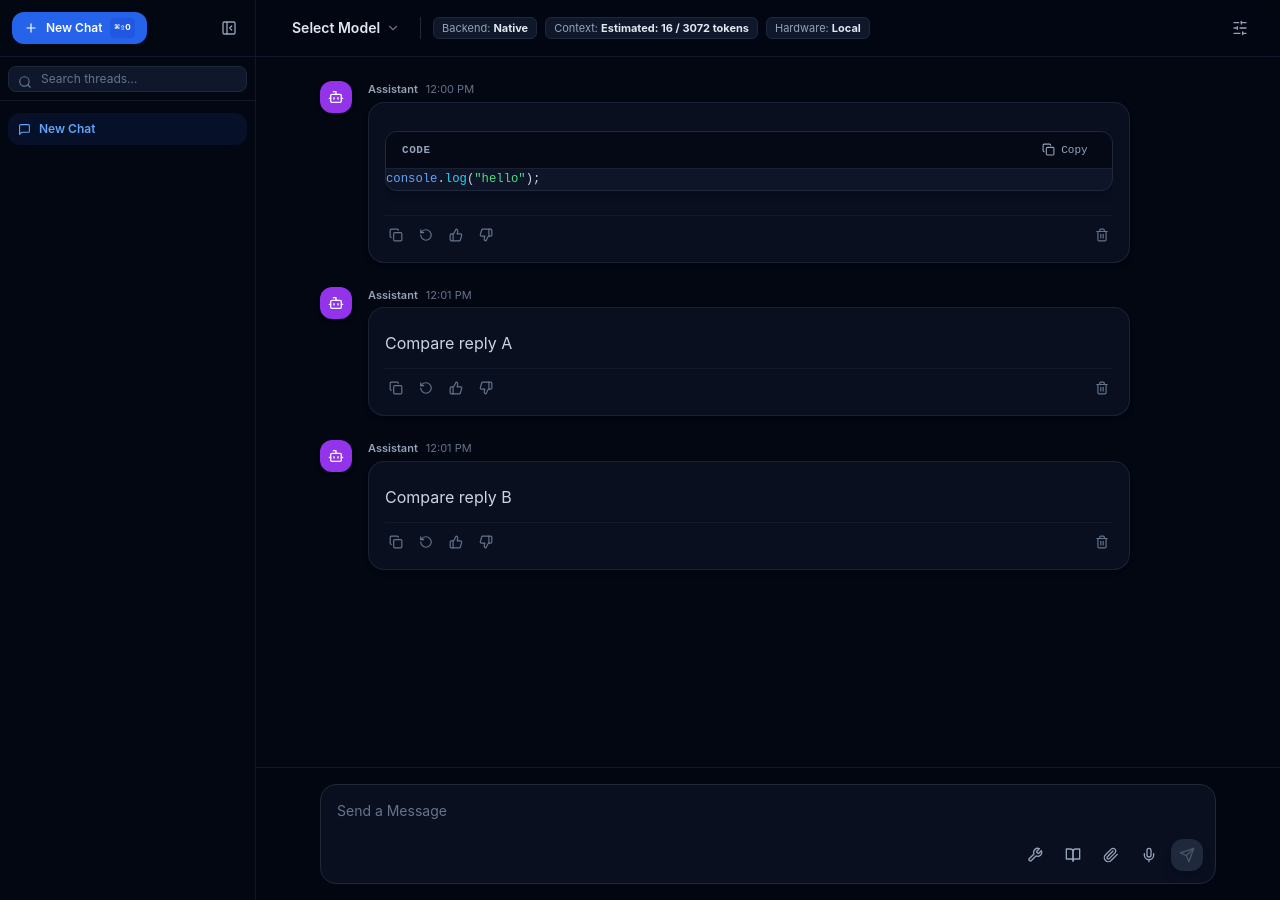
ChatTab › voice input › renders the mic button and starts/stops recognition on click
Click the button named "Start voice input" at (1149, 855), box [1133,839,1165,871]
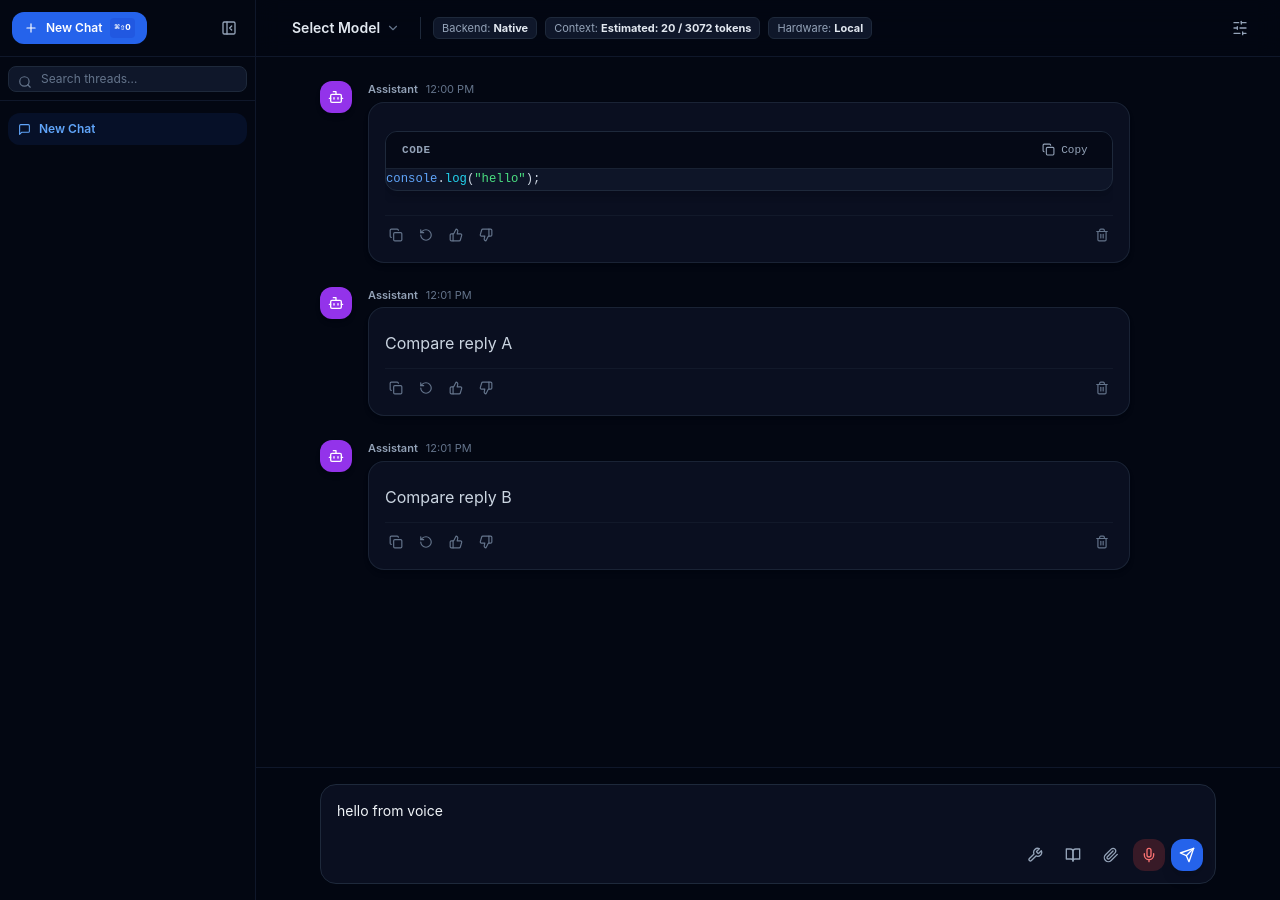
Expected: the button named "Stop voice input" is shown
Expected: the text box with placeholder "Send a Message" holds "hello from voice", [321,785,1215,877]
Click the button named "Stop voice input" at (1149, 855), box [1133,839,1165,871]
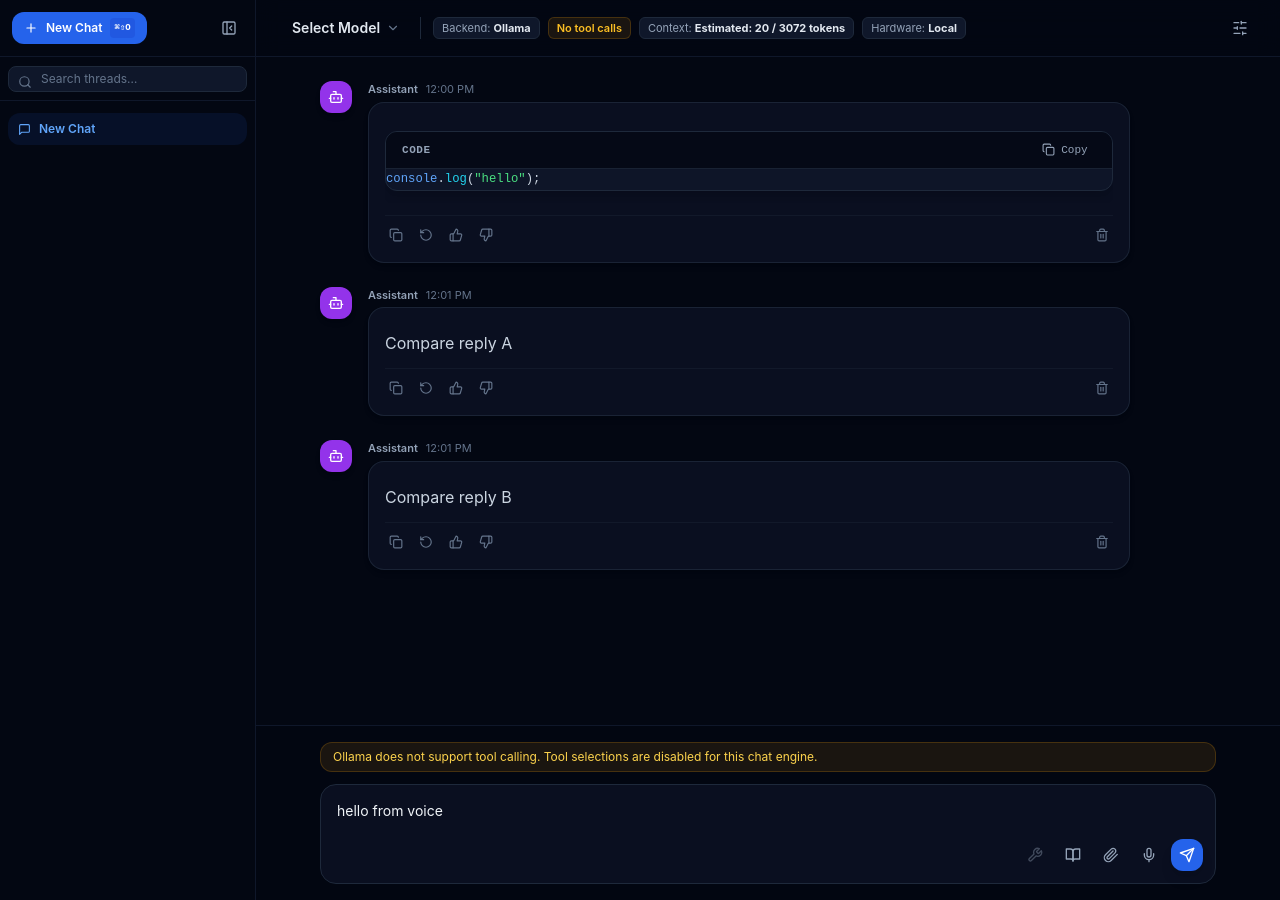
Expected: the button named "Start voice input" is shown, [1133,839,1165,871]
